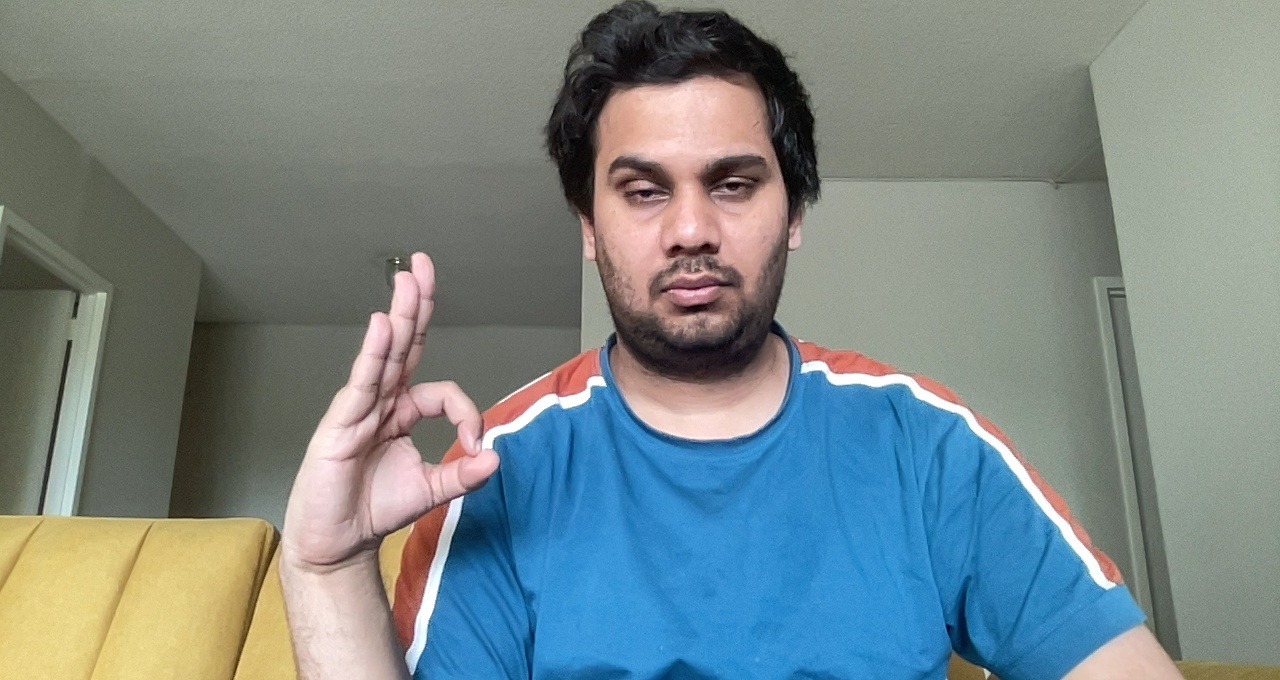ok: (286, 245, 506, 570)
